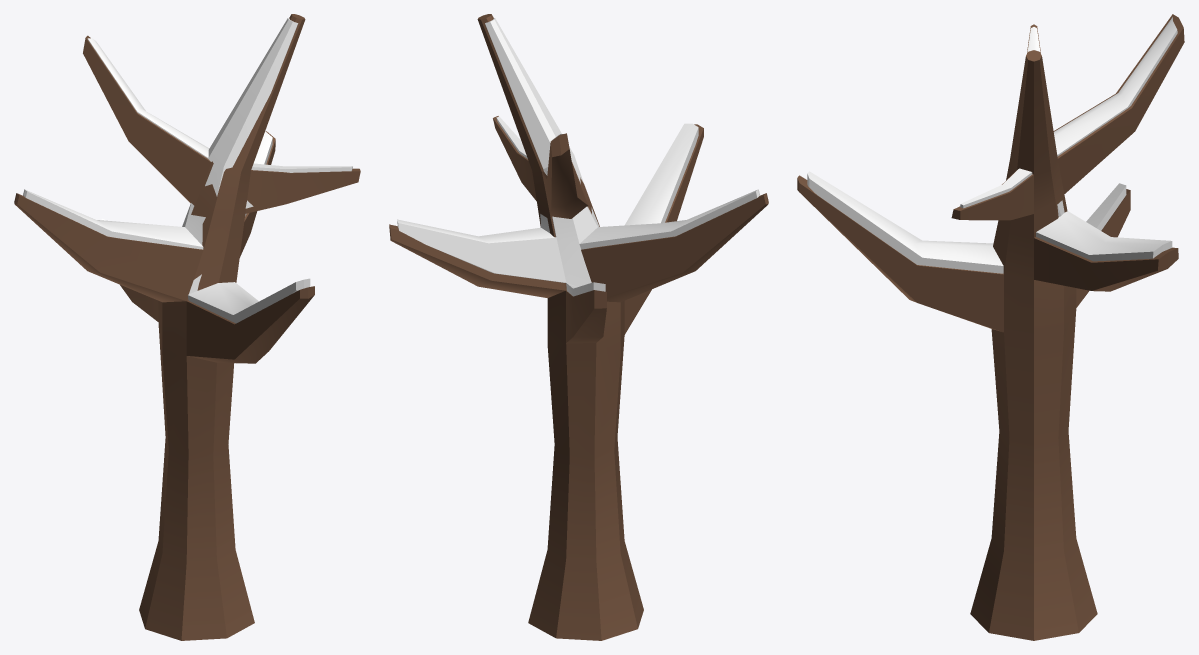
The model's file is obj_ranch_2.fbx.
3 views of the same model, side by side, from view 1: azimuth 30°, elevation 25°; view 2: azimuth 150°, elevation 25°; view 3: azimuth 270°, elevation 25° (orthographic). The views are drawn at different scales.
Visible parts, largest first — view 1: obj_ranch_2; view 2: obj_ranch_2; view 3: obj_ranch_2.
Boxes of the visible parts, left/top/right/bottom form: obj_ranch_2: left=14, top=14, right=360, bottom=640; obj_ranch_2: left=389, top=14, right=768, bottom=640; obj_ranch_2: left=797, top=14, right=1184, bottom=640.
Size of the model in its own units: 2.6 by 4.49 by 2.57.
Materials: 1 (1 with a texture image).
